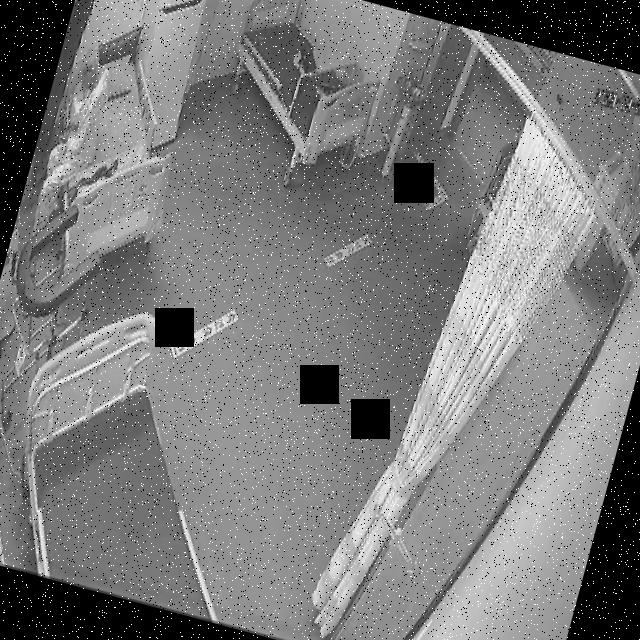bed: (0, 285, 286, 622), (22, 29, 202, 279), (214, 0, 397, 175)
patient: (21, 36, 123, 250)
sit: (22, 39, 122, 250)
walker: (0, 194, 112, 476)
